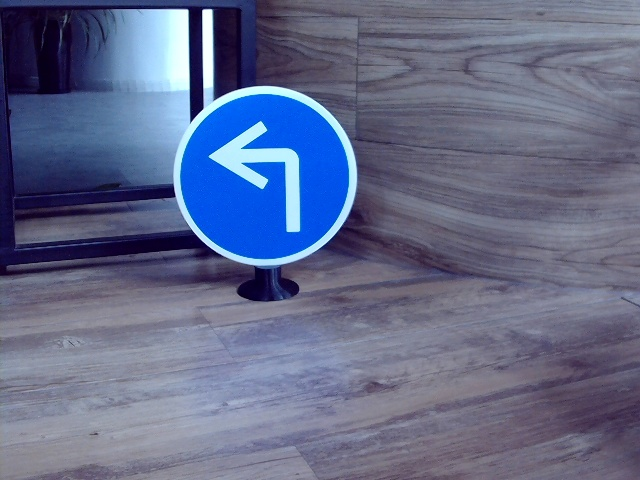turn_left: (210, 118, 306, 235)
